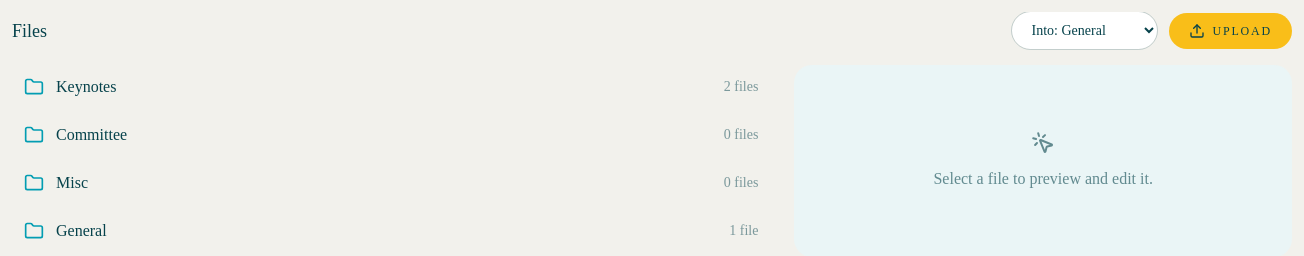
it: FileManager - browsing › opens a folder to list its files with their extensions, and goes back
What coordinates should you click on to do the following:
click the button "Keynotes 2 files"
I would click on:
 (86, 86)
Its box is [12,65,770,109].
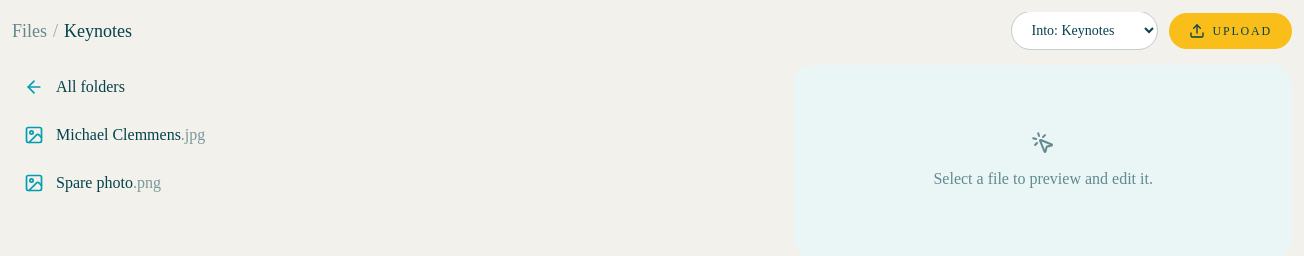
Expected: the button "Michael Clemmens.jpg" is shown, [12,113,770,157]
Expected: the button "Spare photo.png" is shown, [12,161,770,205]
What coordinates should you click on to do the following:
click the button "All folders"
I would click on:
 (90, 86)
Its box is [12,65,770,109].
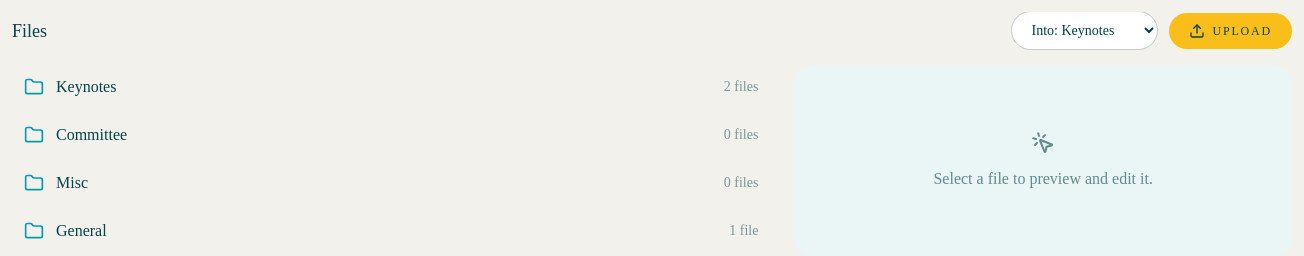
Expected: the button "Committee 0 files" is shown, [12,113,770,157]
